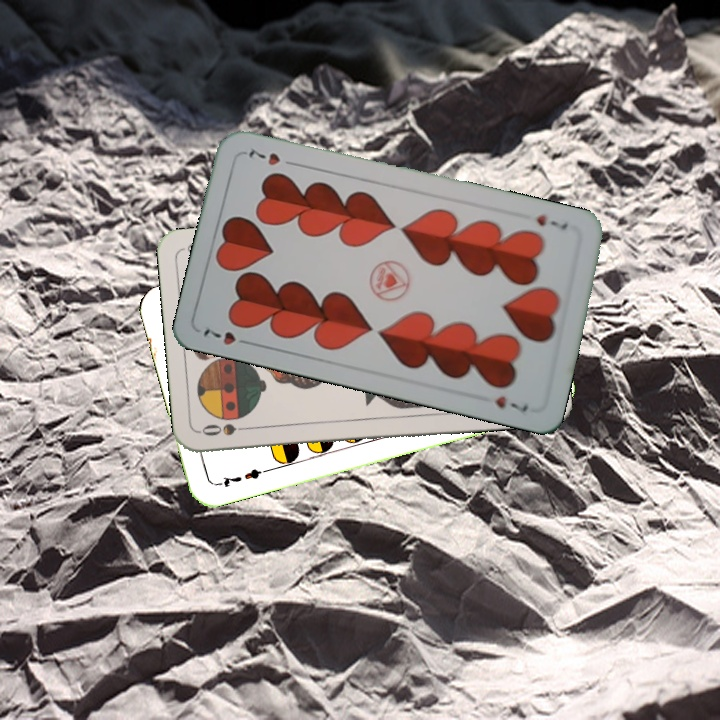E7: (213, 464, 271, 490)
H7: (199, 325, 255, 348), (532, 210, 570, 233)
SO: (197, 419, 257, 439)
